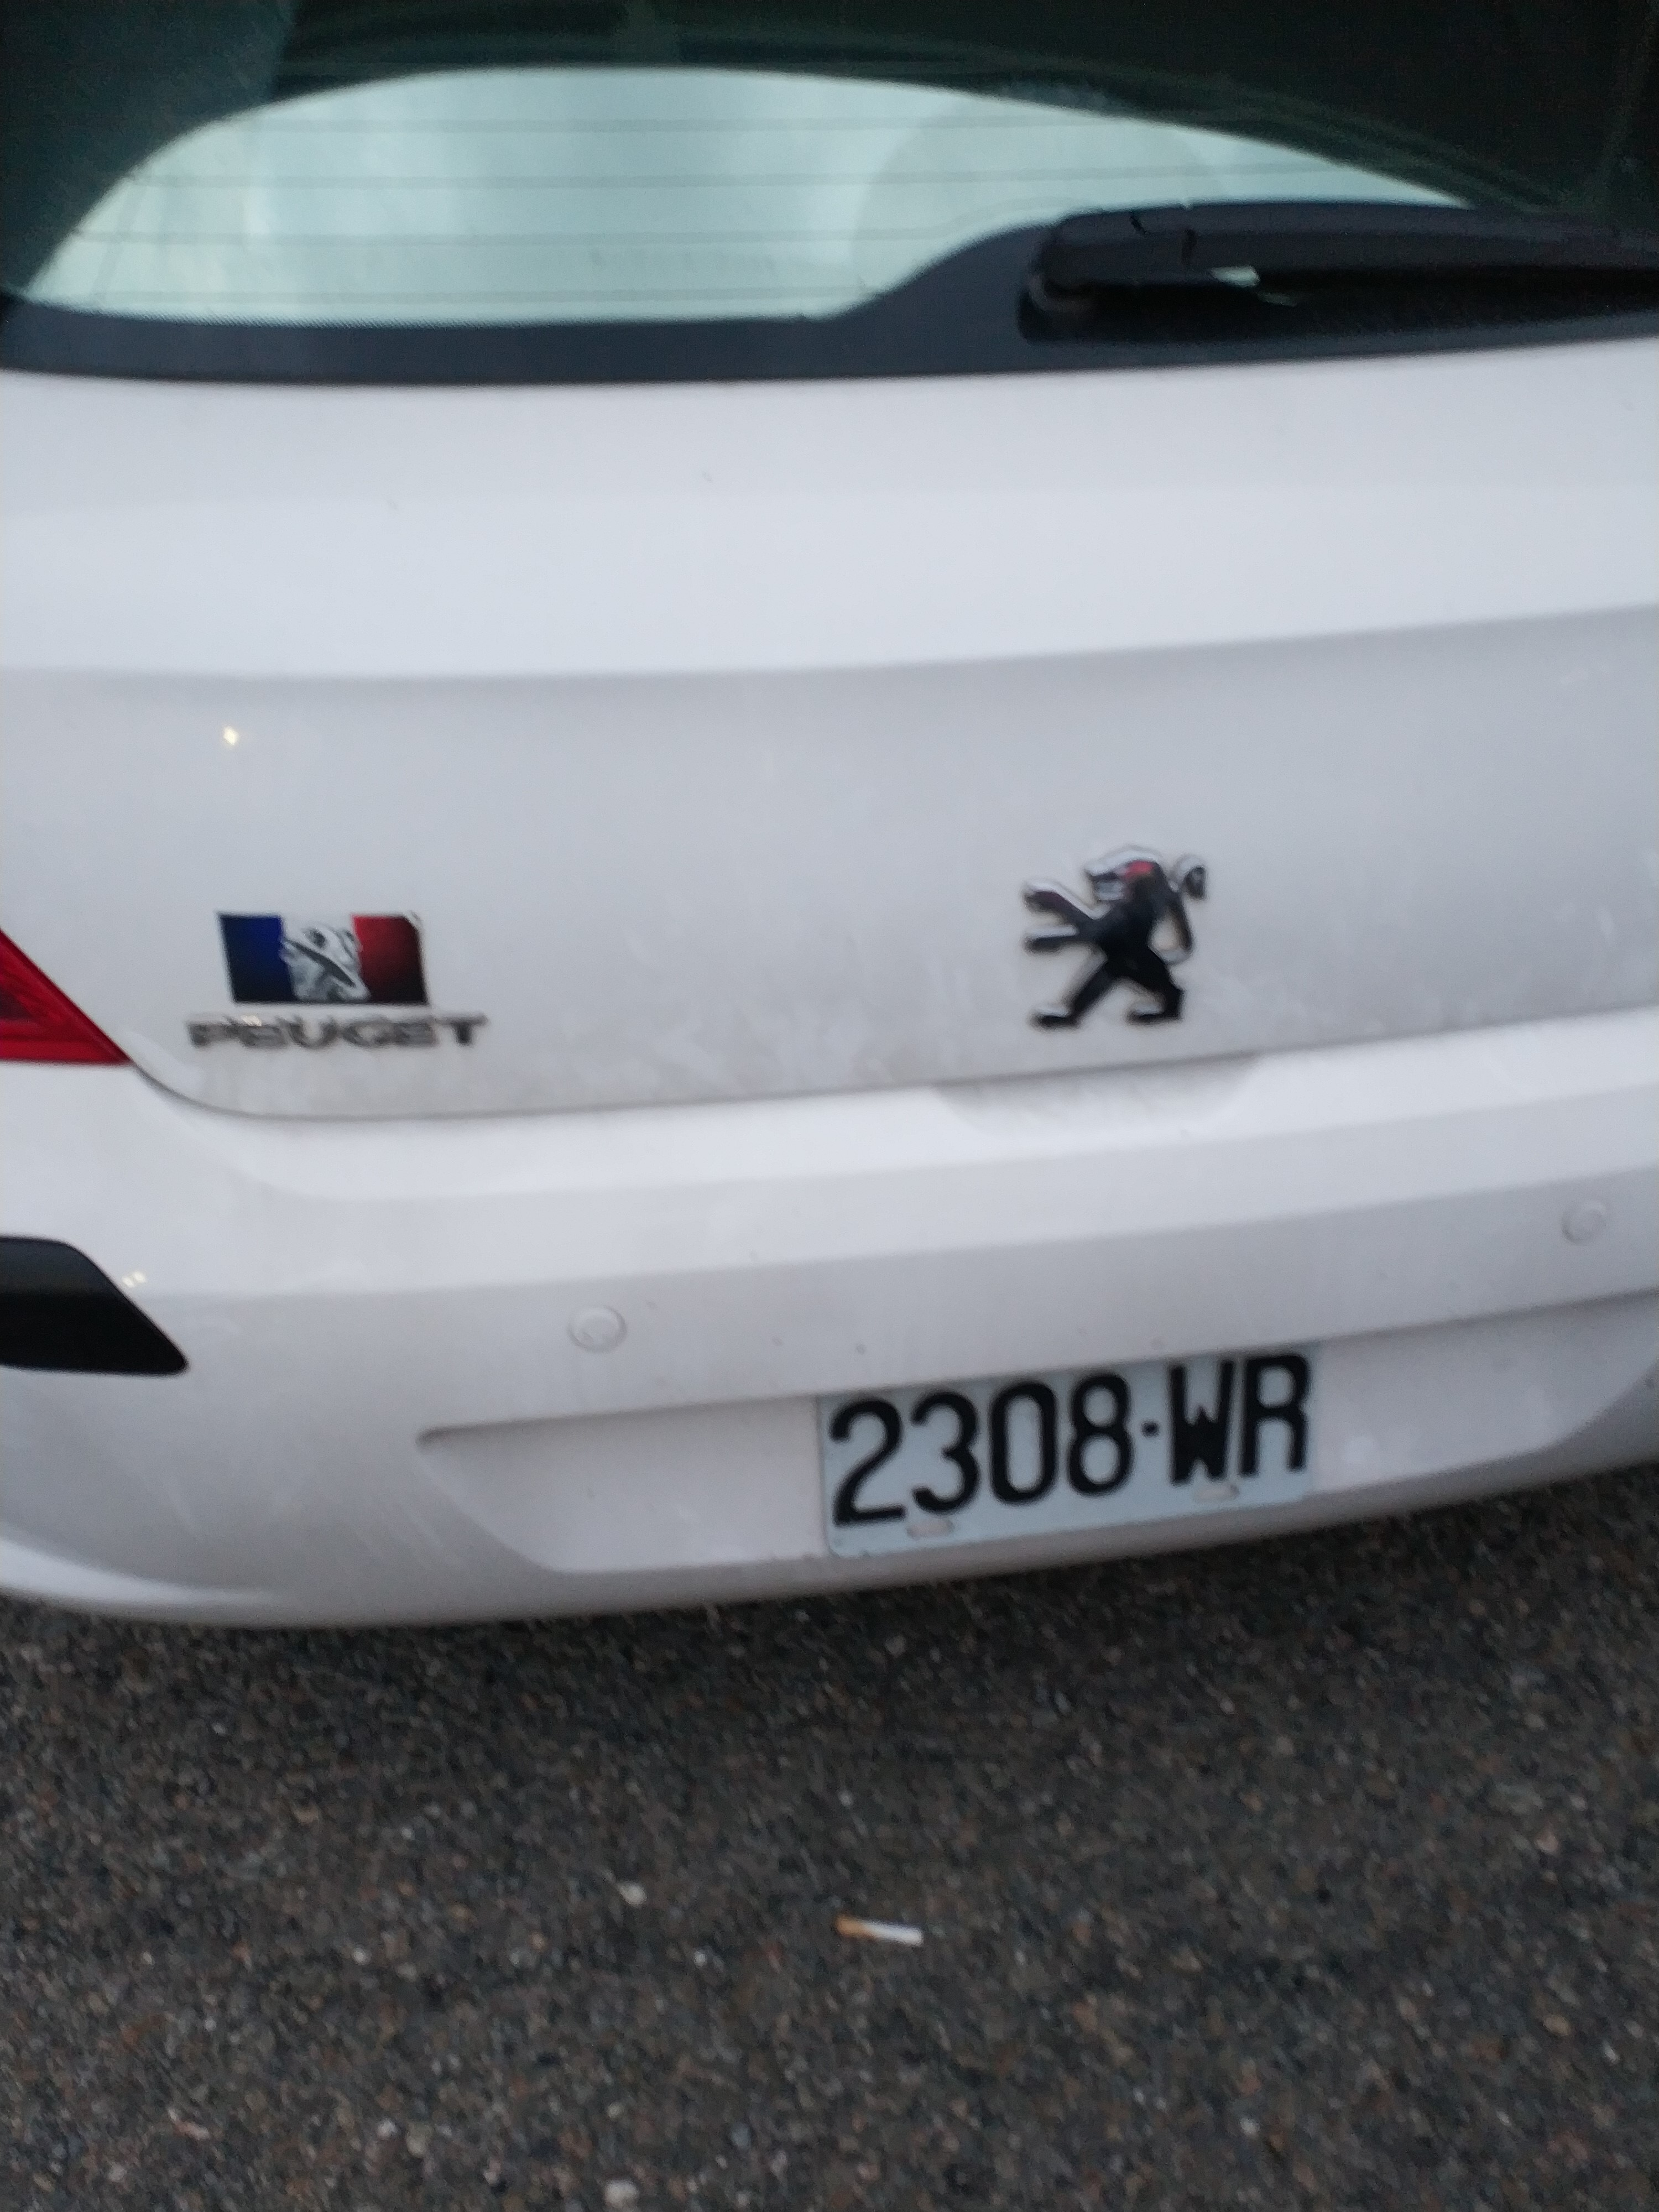car: (5, 7, 1659, 1623)
car_card: (803, 1334, 1331, 1534)
